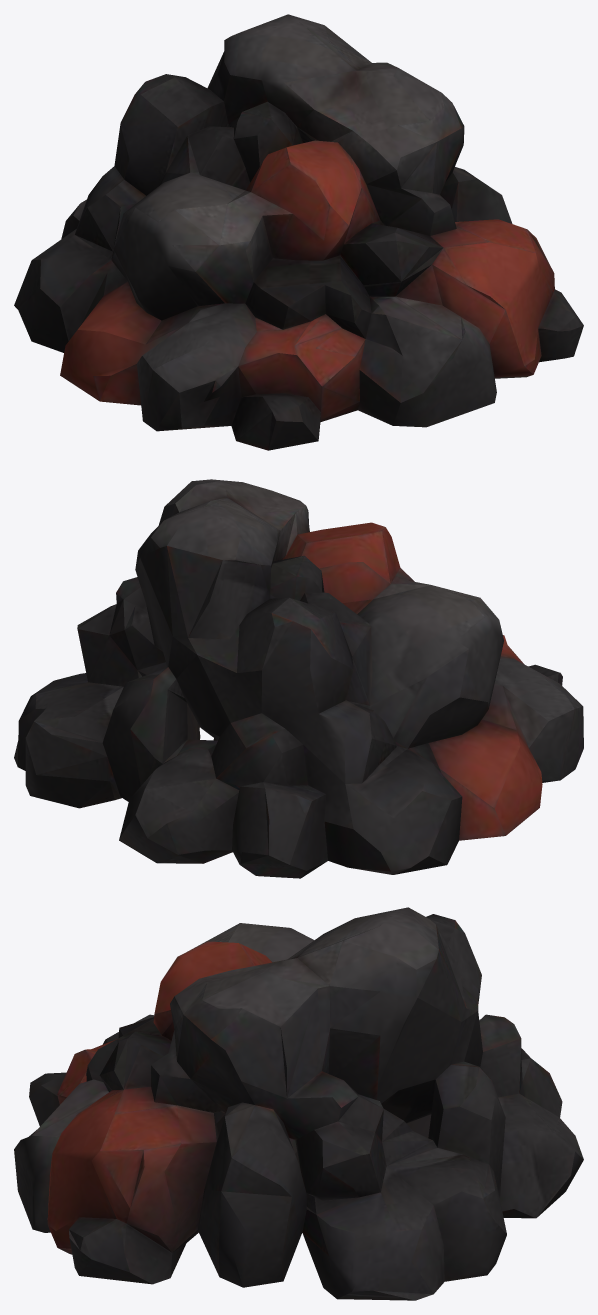
File: slag_heap.glb
3 views of the same model, one above another, from view 1: azimuth 30°, elevation 25°; view 2: azimuth 150°, elevation 25°; view 3: azimuth 270°, elevation 25° (orthographic). The views are drawn at different scales.
Visible parts, largest first — view 1: Mesh_0; view 2: Mesh_0; view 3: Mesh_0.
Part boxes in pixels (x1,y1,x2,y2): Mesh_0: (14, 14, 583, 450); Mesh_0: (14, 479, 583, 878); Mesh_0: (14, 907, 583, 1300).
Bounding box in the file's own units: 1.83 × 1.06 × 1.9.
1 material, 1 textured.
